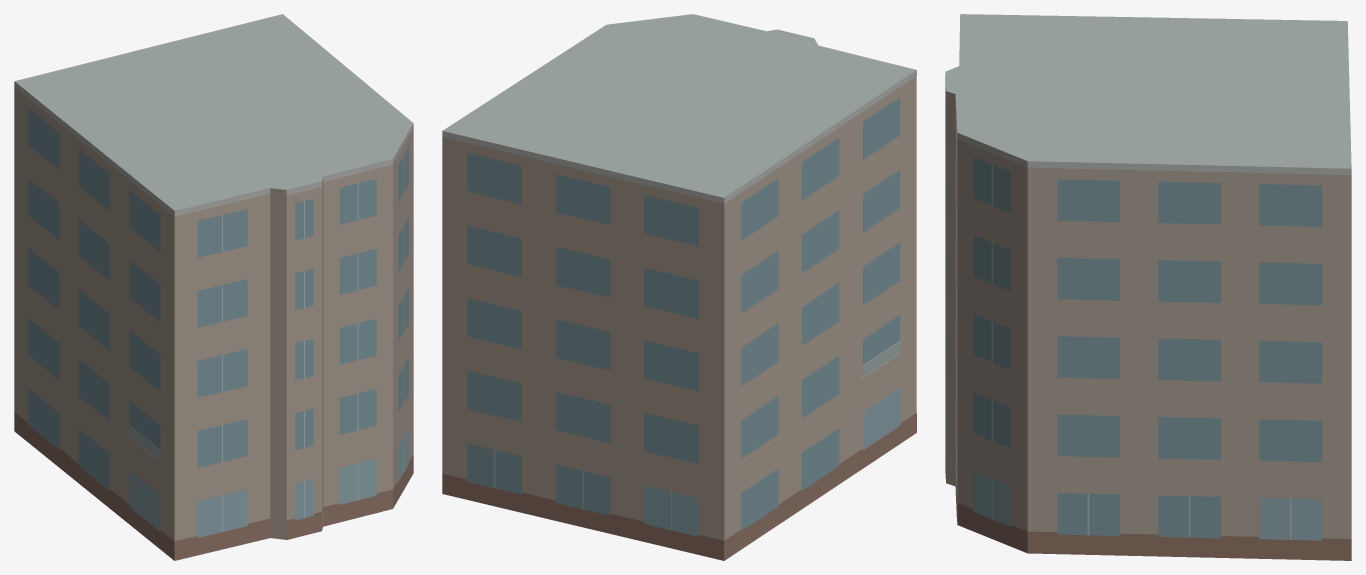
The model's file is survey-upis-32648962.glb.
3 views of the same model, side by side, from view 1: azimuth 30°, elevation 25°; view 2: azimuth 150°, elevation 25°; view 3: azimuth 270°, elevation 25° (orthographic). The views are drawn at different scales.
Visible parts, largest first — view 1: survey-upis-32648962.tmp; view 2: survey-upis-32648962.tmp; view 3: survey-upis-32648962.tmp.
Boxes of the visible parts, x1,y1,x2,y2 form: survey-upis-32648962.tmp: (14,14,413,560); survey-upis-32648962.tmp: (442,14,916,560); survey-upis-32648962.tmp: (945,14,1351,560).
Size of the model in its own units: 12.53 by 14.8 by 13.9.
